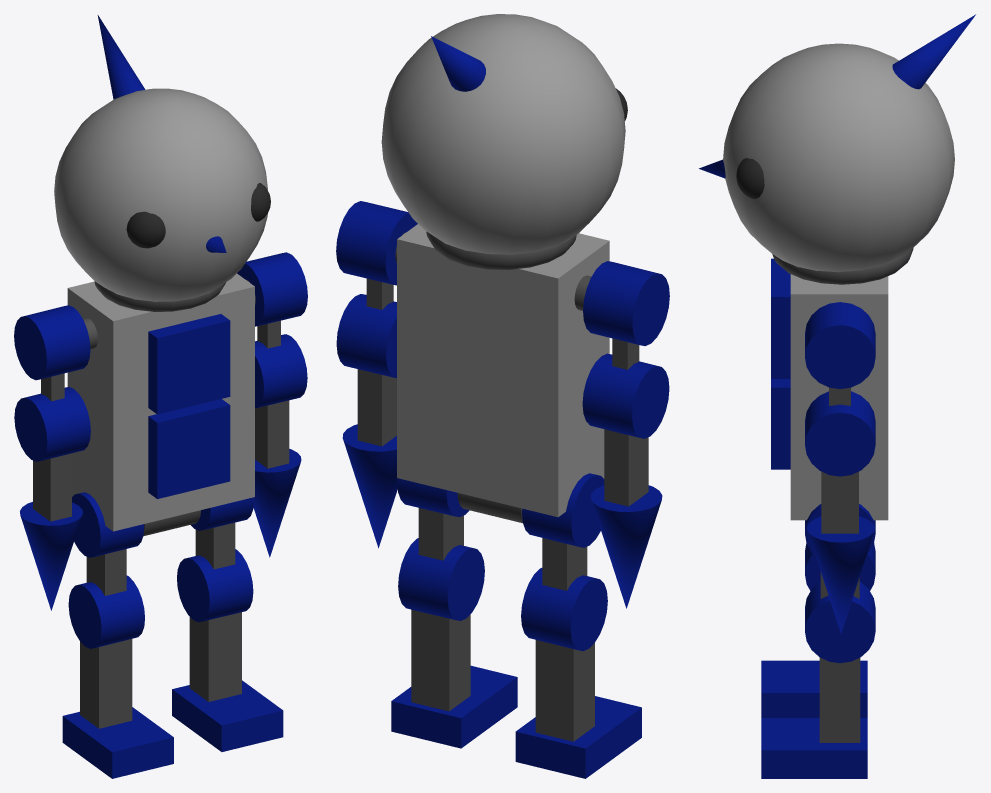
File: robot.fbx
The picture shows the model from 3 angles, left to right: view 1: azimuth 30°, elevation 25°; view 2: azimuth 150°, elevation 25°; view 3: azimuth 270°, elevation 25°; orthographic projection. The views are drawn at different scales.
Visible parts, largest first — view 1: pSphere1, pCube1, pCube7, pCube8, pCube12, pCube6, pCylinder7, pCylinder9, pCube11, pCube5, pCylinder5, pCylinder11 (+17 smaller); view 2: pCube1, pSphere1, pCylinder7, pCube6, pCube12, pCylinder9, pCube11, pCube5, pCylinder5, pCylinder11, pCylinder1, pCone4 (+13 smaller); view 3: pSphere1, pCube1, pCube6, pCylinder1, pCylinder2, pCylinder5, pCube12, pCone1, pCube5, pCube3, pCube7, pCone3 (+5 smaller).
Boxes of the visible parts, left/top/right/bottom form: pSphere1: left=54, top=88, right=267, bottom=301; pCube1: left=67, top=273, right=254, bottom=531; pCube7: left=148, top=314, right=230, bottom=414; pCube8: left=148, top=399, right=230, bottom=498; pCube12: left=62, top=707, right=173, bottom=778; pCube6: left=172, top=680, right=283, bottom=751; pCylinder7: left=14, top=305, right=90, bottom=380; pCylinder9: left=14, top=387, right=90, bottom=461; pCube11: left=80, top=639, right=132, bottom=728; pCube5: left=189, top=612, right=241, bottom=701; pCylinder5: left=177, top=549, right=253, bottom=622; pCylinder11: left=68, top=575, right=144, bottom=648; pCube1: left=397, top=224, right=609, bottom=517; pSphere1: left=381, top=14, right=625, bottom=254; pCylinder7: left=583, top=261, right=669, bottom=345; pCube6: left=391, top=665, right=517, bottom=748; pCube12: left=515, top=696, right=641, bottom=778; pCylinder9: left=582, top=353, right=669, bottom=438; pCube11: left=535, top=640, right=594, bottom=741; pCube5: left=411, top=609, right=470, bottom=711; pCylinder5: left=398, top=538, right=484, bottom=620; pCylinder11: left=521, top=568, right=607, bottom=651; pCylinder1: left=336, top=201, right=417, bottom=285; pCone4: left=590, top=485, right=662, bottom=608; pSphere1: left=723, top=43, right=954, bottom=272; pCube1: left=790, top=274, right=888, bottom=520; pCube6: left=761, top=718, right=867, bottom=778; pCylinder1: left=805, top=302, right=875, bottom=388; pCylinder2: left=805, top=391, right=875, bottom=476; pCylinder5: left=805, top=582, right=875, bottom=663; pCube12: left=761, top=660, right=867, bottom=717; pCone1: left=807, top=516, right=874, bottom=633; pCube5: left=819, top=657, right=860, bottom=742; pCube3: left=821, top=471, right=858, bottom=533; pCube7: left=771, top=258, right=790, bottom=378; pCone3: left=892, top=14, right=975, bottom=89.
Bounding box in the file's own units: 2.55 × 5.97 × 2.09.
